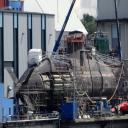submarine: (11, 42, 119, 105)
